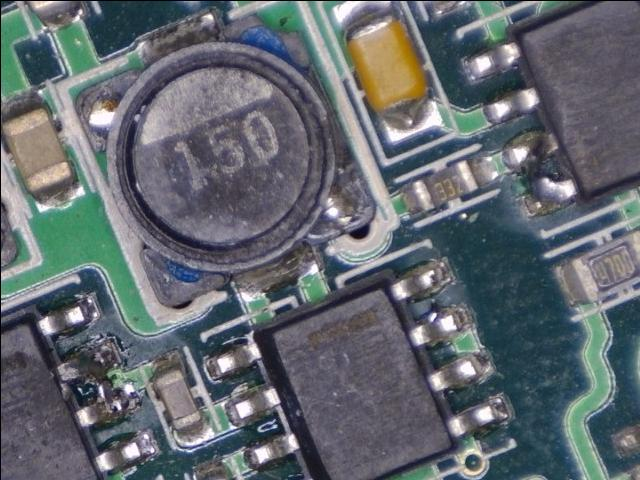Short_circuit: (388, 256, 470, 349), (57, 343, 140, 427), (502, 132, 577, 216)
